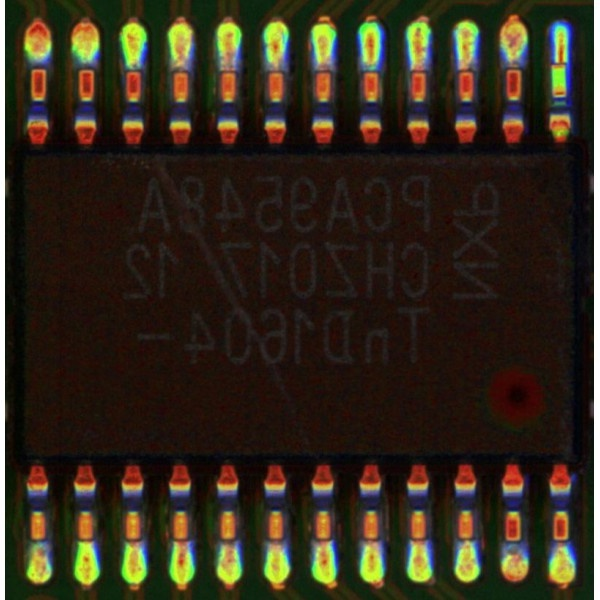Bad_podu: (268, 531, 285, 560), (174, 526, 187, 558), (127, 528, 141, 557), (411, 530, 424, 561), (222, 529, 235, 560), (32, 528, 45, 557), (317, 531, 330, 560), (269, 56, 282, 84), (223, 55, 235, 85), (176, 52, 187, 84), (461, 529, 472, 558), (413, 54, 424, 81), (318, 55, 329, 82), (462, 53, 472, 82), (554, 54, 565, 75)
